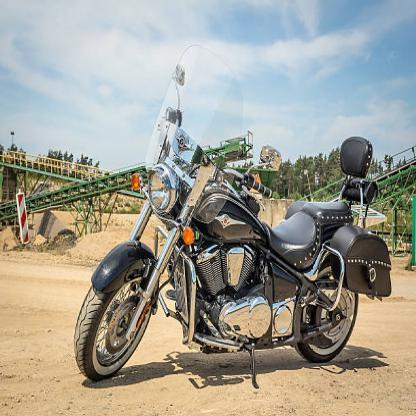Motorcycle: (69, 58, 389, 387)
